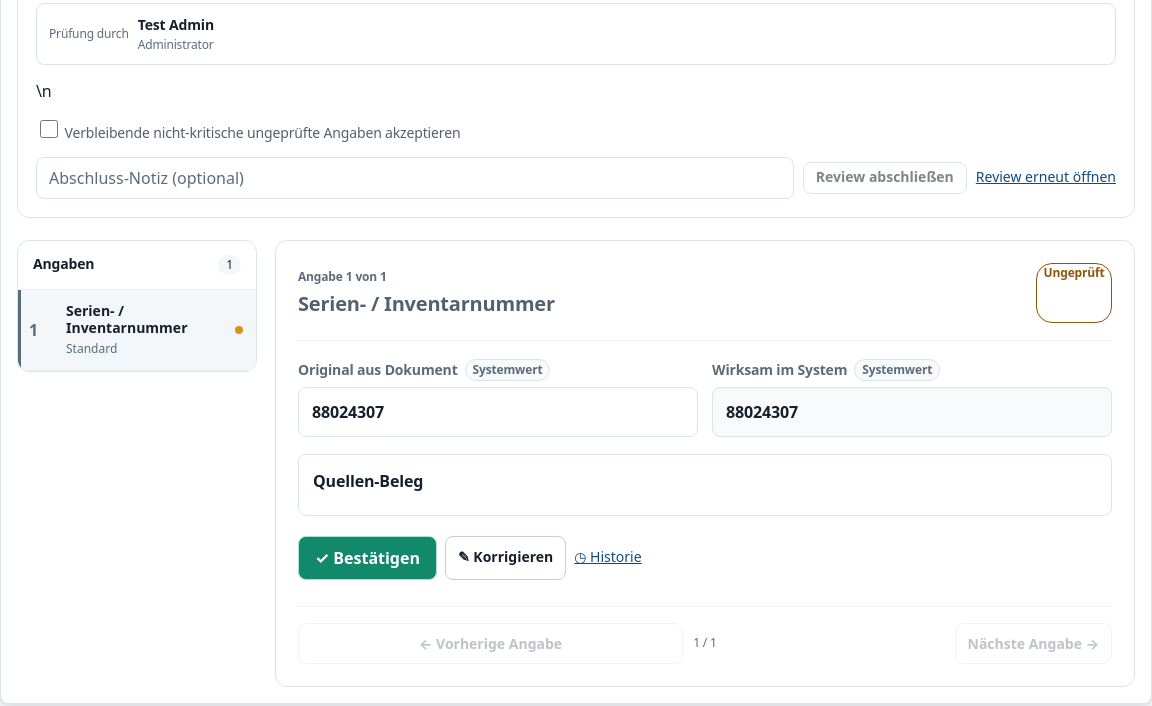
Test: Faktprüfung – Bestätigen (authentifizierter Benutzer) › Bestätigen speichert die Aktion ohne Wertänderung und aktualisiert das Review
(page scrolled)
Click the button "✓ Bestätigen": (368, 558) [298,536,437,580]
(page scrolled)
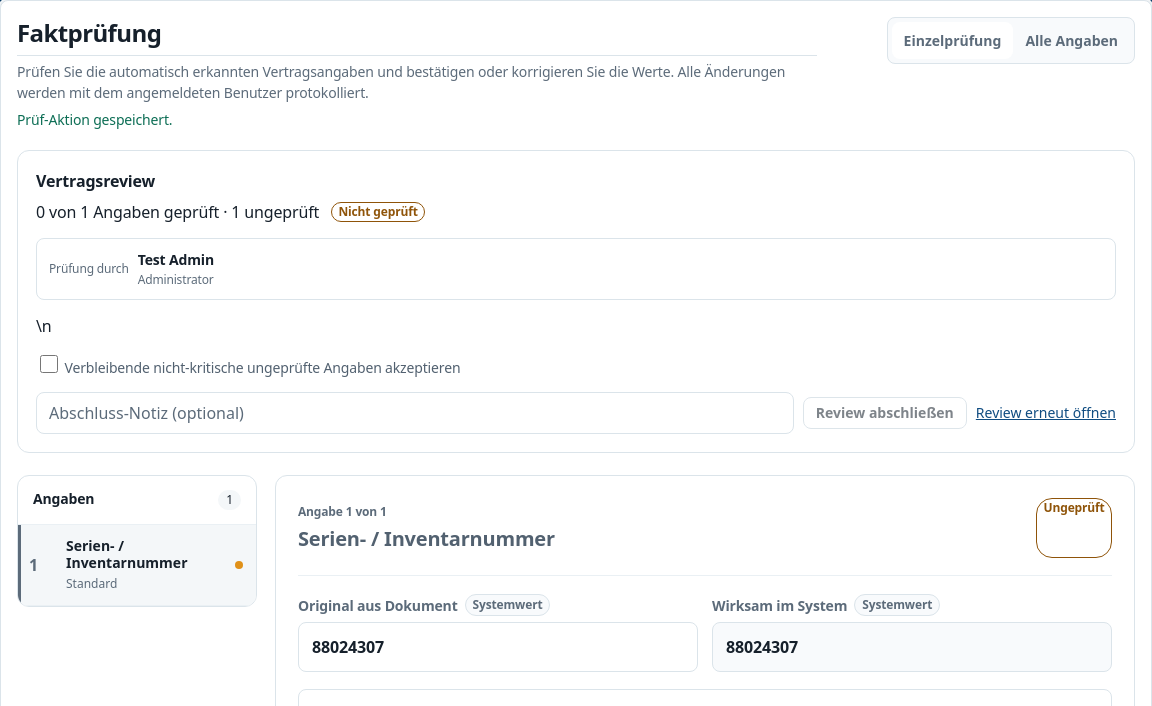
Check: the text "88024307" below "Original aus Dokument" is shown, box [312,636,384,658]
Check: the text "Prüf-Aktion gespeichert." is shown, box [17,110,172,129]
